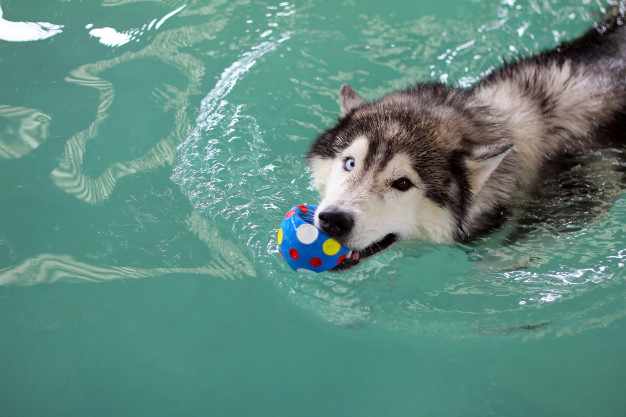husky: (299, 8, 620, 309)
